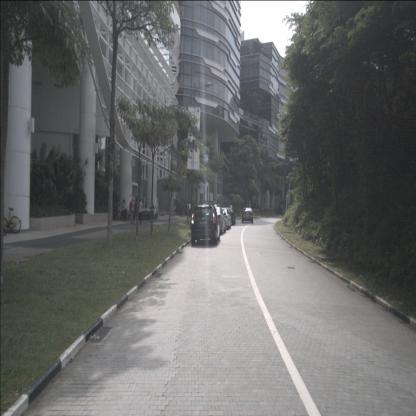human-pedestrian-adult: (129, 196, 135, 224), (133, 198, 139, 224), (138, 199, 143, 225), (122, 200, 126, 220), (150, 203, 155, 219), (187, 201, 191, 220), (145, 202, 148, 219)
vehicle-bicycle: (0, 205, 21, 237)
vehicle-car: (191, 204, 220, 245), (204, 206, 227, 235), (215, 207, 231, 230), (222, 204, 236, 226), (242, 207, 253, 224)
